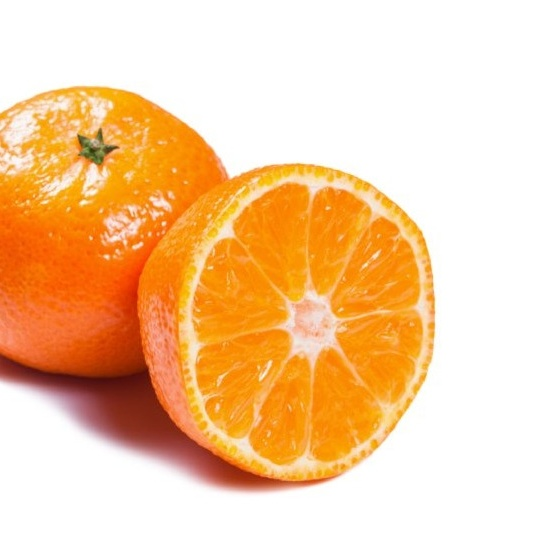mandarin: (137, 158, 436, 481), (1, 86, 233, 380)
